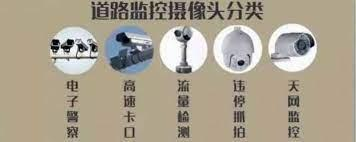tutu: (114, 29, 155, 59), (47, 23, 61, 56), (75, 38, 88, 56), (87, 37, 100, 55), (62, 37, 75, 54)
